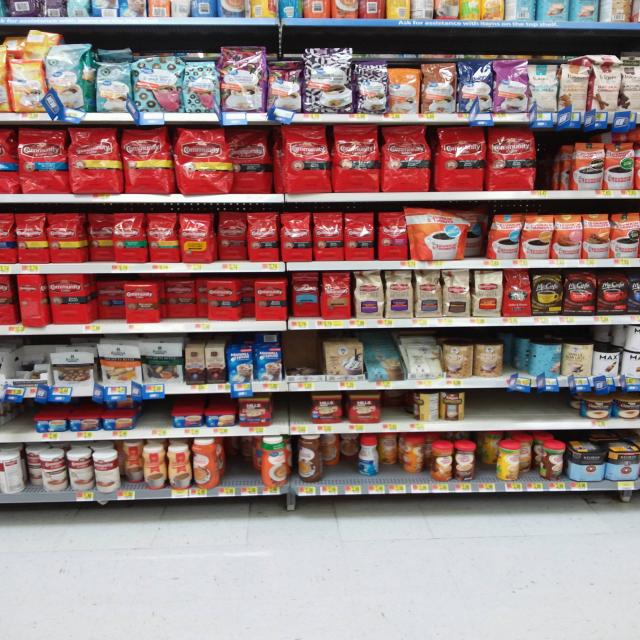void: (540, 127, 572, 200), (227, 437, 259, 496), (519, 388, 549, 432), (383, 388, 413, 432), (276, 393, 308, 434), (137, 396, 168, 438), (552, 387, 580, 430), (0, 401, 30, 441), (491, 389, 516, 433), (464, 388, 489, 432)
